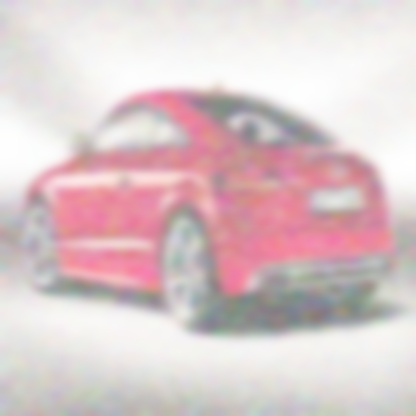Vehicle: (23, 78, 398, 334)
